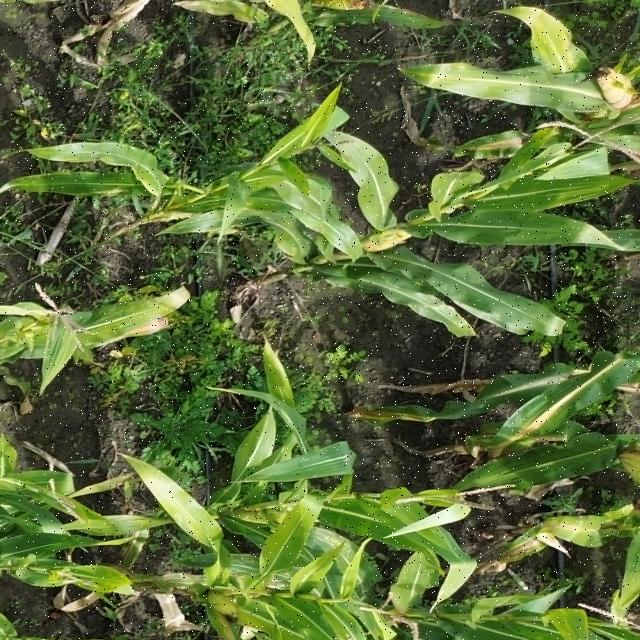gray-leaf-spot: (94, 297, 188, 340), (226, 556, 302, 592)
northern-leaf-blight: (506, 524, 606, 565), (342, 405, 446, 434), (553, 34, 589, 70)
southern-leaf-blight: (397, 284, 504, 324), (302, 204, 365, 252), (317, 533, 368, 569)
